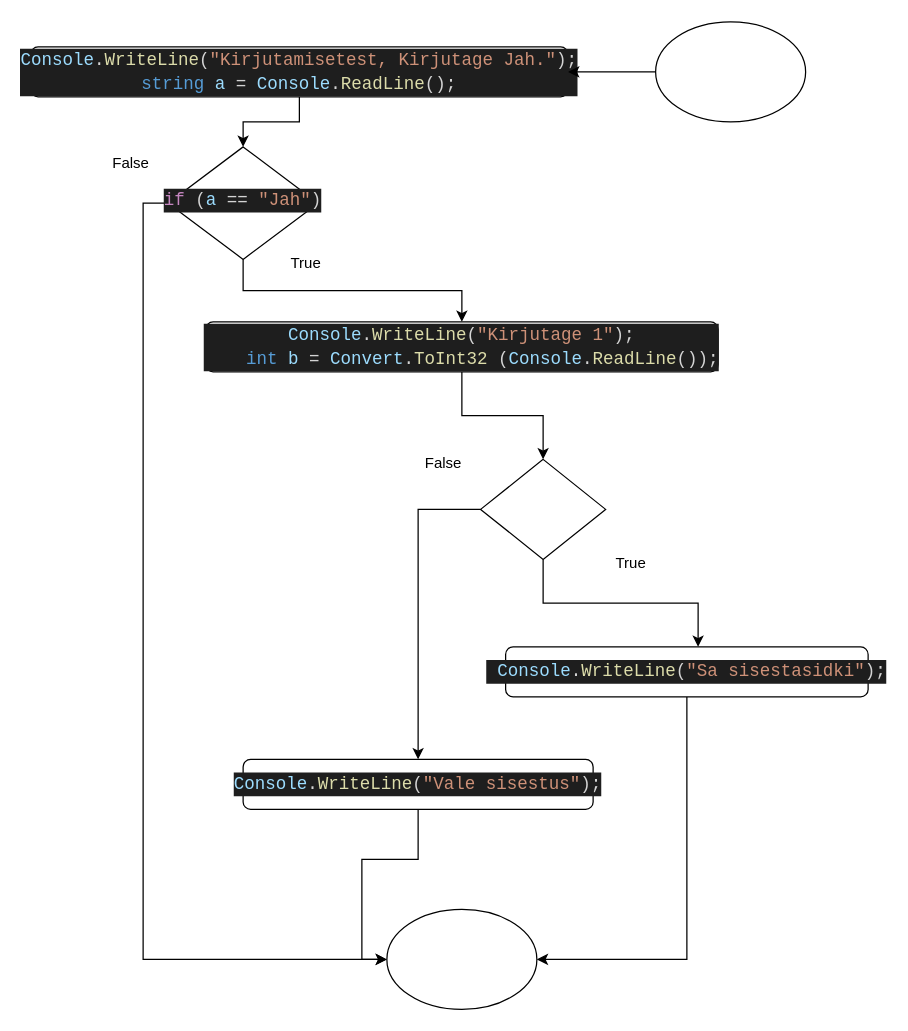
This 908x1031 diagram has some shape labels left out. Here are the shapes that lost their labels. From the top down, the centre of each, then its label:
At [730,71]: "Start".
At [542,508]: "if (b == 1)".
At [461,958]: "End".
